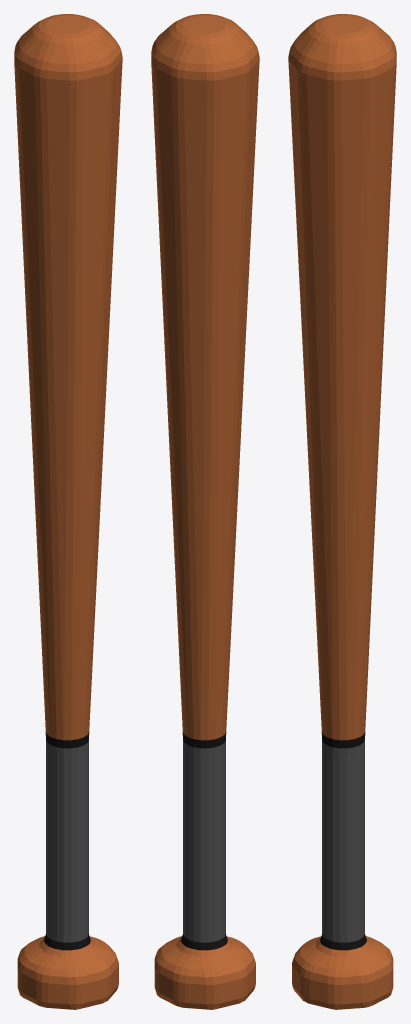
The model's file is baseball_bat (1).fbx.
3 renders of one model, left to right at view 1: azimuth 30°, elevation 25°; view 2: azimuth 150°, elevation 25°; view 3: azimuth 330°, elevation 25°, orthographic.
Parts seen in each view (by area): view 1: sopa; view 2: sopa; view 3: sopa.
Boxes of the visible parts, left/top/right/bottom form: sopa: left=14, top=14, right=122, bottom=1009; sopa: left=151, top=14, right=259, bottom=1009; sopa: left=288, top=14, right=396, bottom=1009.
Size of the model in its own units: 0.3775 by 3.69 by 0.3754.
